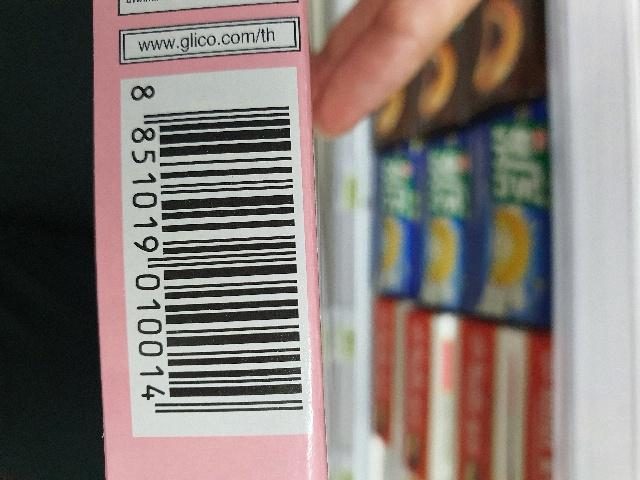Barcode: (122, 82, 307, 421)
